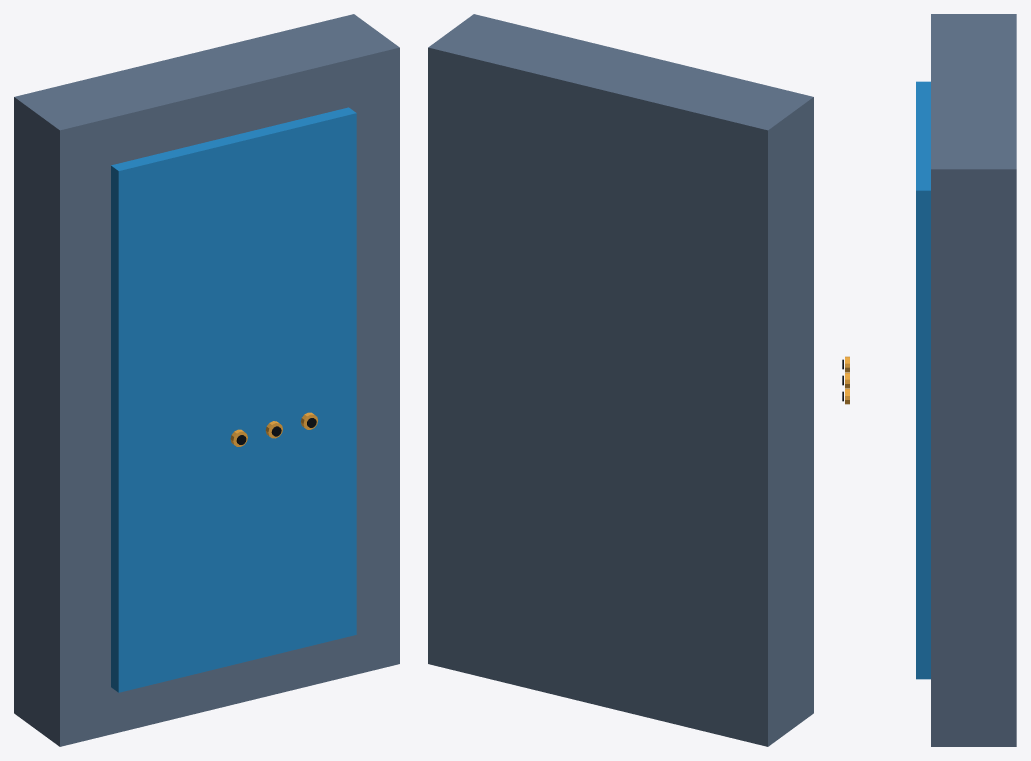
The model's file is 11_L90_ProtectedVentAndInterlockGate.fbx.
3 renders of one model, left to right at view 1: azimuth 30°, elevation 25°; view 2: azimuth 150°, elevation 25°; view 3: azimuth 270°, elevation 25°, orthographic. The views are drawn at different scales.
Visible parts, largest first — view 1: L90_ProtectedVentAndInterlockGate_Part_0001, L90_ProtectedVentAndInterlockGate; view 2: L90_ProtectedVentAndInterlockGate; view 3: L90_ProtectedVentAndInterlockGate, L90_ProtectedVentAndInterlockGate_Part_0001.
Boxes of the visible parts, x1=… form: L90_ProtectedVentAndInterlockGate_Part_0001: x1=111, y1=107, x2=356, y2=692; L90_ProtectedVentAndInterlockGate: x1=14, y1=14, x2=399, y2=746; L90_ProtectedVentAndInterlockGate: x1=428, y1=14, x2=813, y2=746; L90_ProtectedVentAndInterlockGate: x1=931, y1=14, x2=1016, y2=746; L90_ProtectedVentAndInterlockGate_Part_0001: x1=916, y1=81, x2=930, y2=679.
Size of the model in its own units: 300 by 520 by 142.
